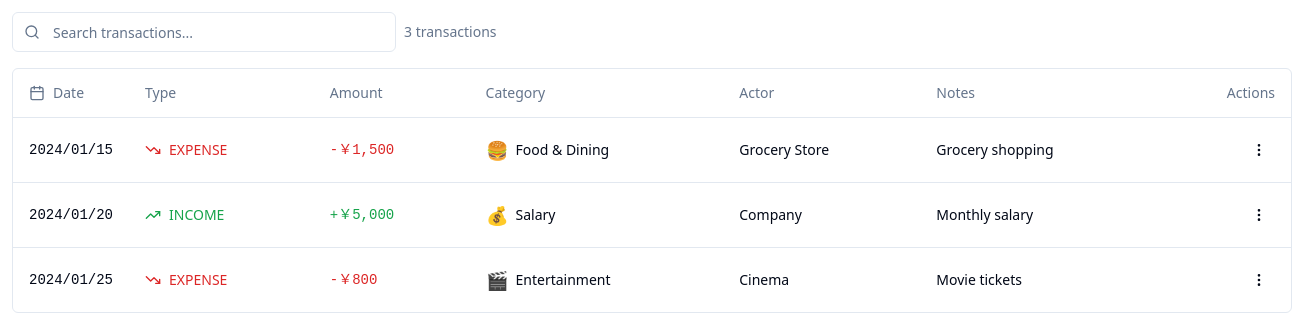
Test: TransactionsTable › Search functionality › should filter transactions by notes
Type "grocery" into the field with placeholder "Search transactions...".
click(204, 32); type("grocery")  # box [12,12,396,52]
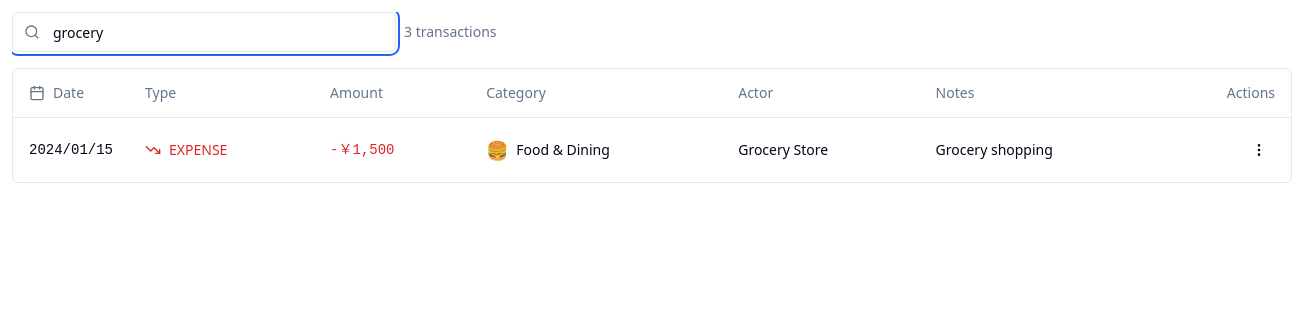
Expected: the text "Grocery shopping" is shown, [920,117,1161,182]
Result: the text "Monthly salary" is gone
Result: the text "Movie tickets" is gone
